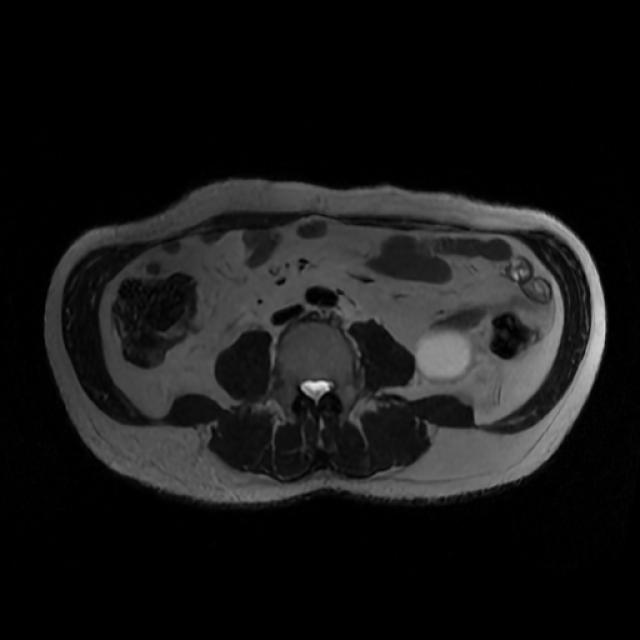sol: (418, 329, 475, 380)
